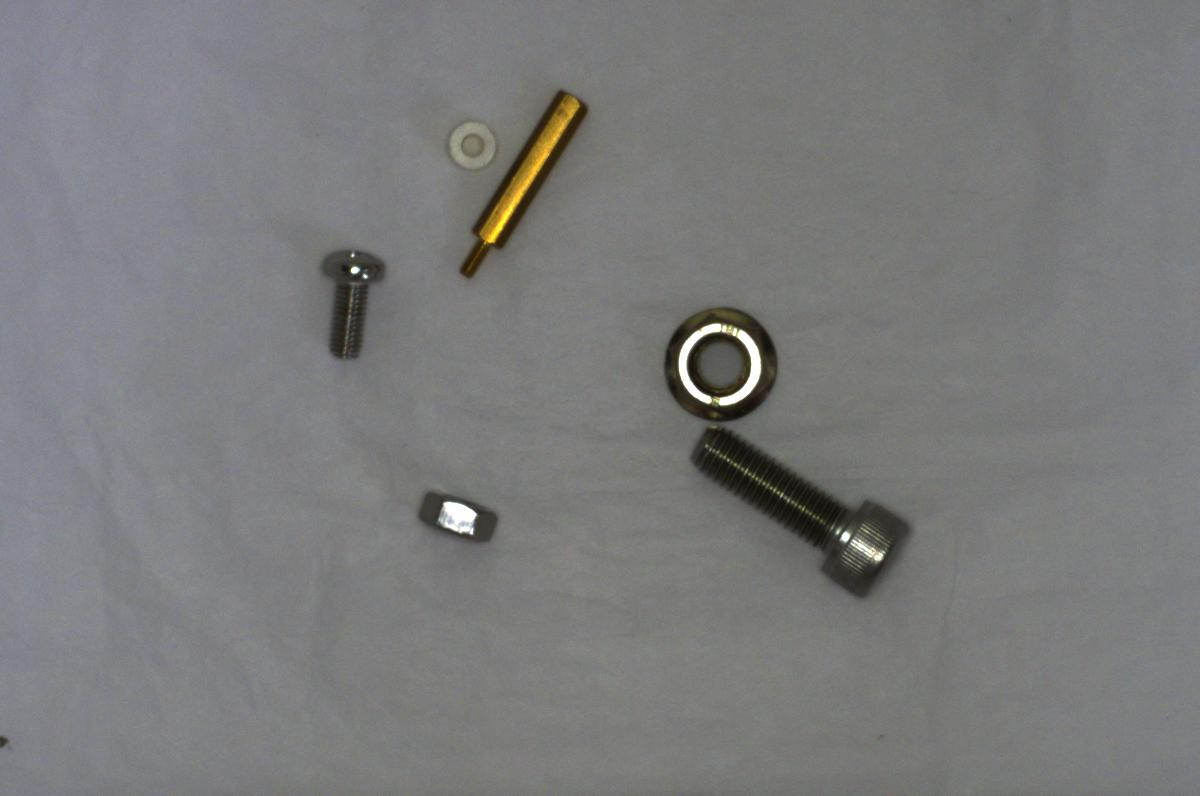Flange nut: (653, 299, 782, 422)
Hexagon nut: (404, 488, 508, 549)
Hexagon pillar: (446, 85, 593, 276)
Hexagon screw: (684, 418, 919, 600)
Plastic cushion pillar: (430, 118, 501, 174)
Round head screw: (313, 235, 386, 362)
